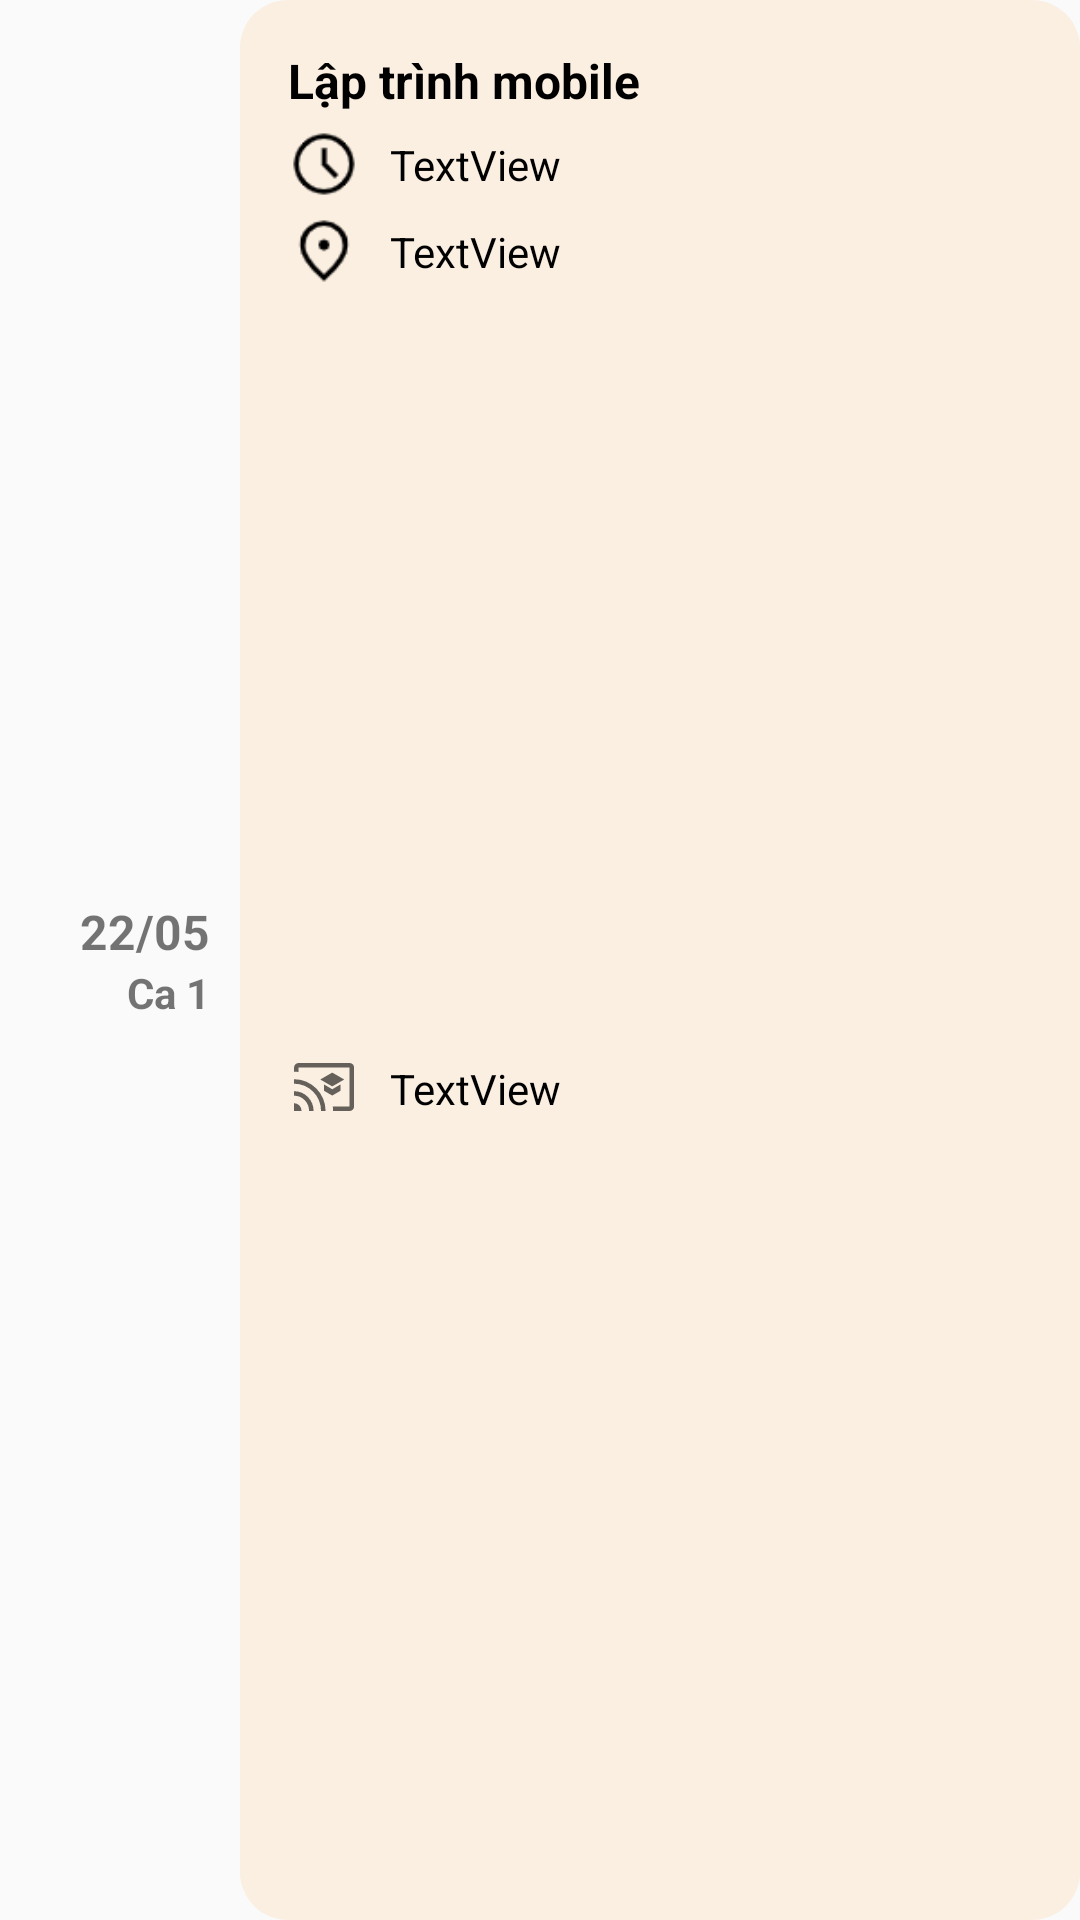

Where icons sit on this 1080x1920 app screen, as [x1,y1,x2,y2]:
cast for education: [294,1063,354,1111]
clock: [293,133,355,195]
location on: [299,220,349,282]
